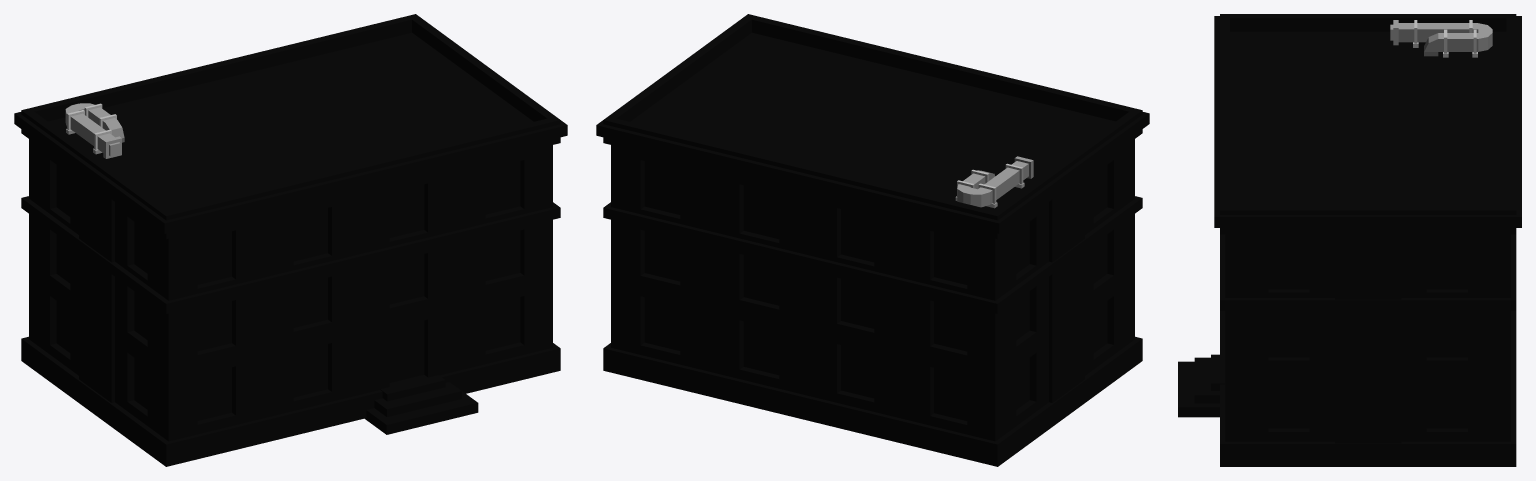
The model's file is SA_Bld_HospitalBuildingSmall_01.gltf.
The picture shows the model from 3 angles, left to right: view 1: azimuth 30°, elevation 25°; view 2: azimuth 150°, elevation 25°; view 3: azimuth 270°, elevation 25°; orthographic projection. The views are drawn at different scales.
Visible parts, largest first — view 1: SA_Bld_HospitalBuildingSmall_01; view 2: SA_Bld_HospitalBuildingSmall_01; view 3: SA_Bld_HospitalBuildingSmall_01.
Boxes of the visible parts, <box> form: SA_Bld_HospitalBuildingSmall_01: <box>14,14,567,466</box>; SA_Bld_HospitalBuildingSmall_01: <box>596,14,1149,466</box>; SA_Bld_HospitalBuildingSmall_01: <box>1178,14,1521,466</box>.
Bounding box in the file's own units: 24.21 × 14.84 × 17.5.
Materials: 1 (1 with a texture image).
